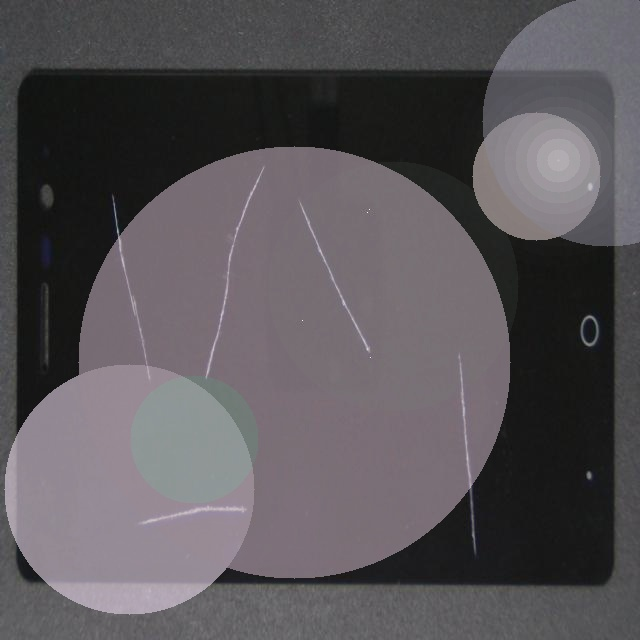scratch: (108, 21, 467, 385)
